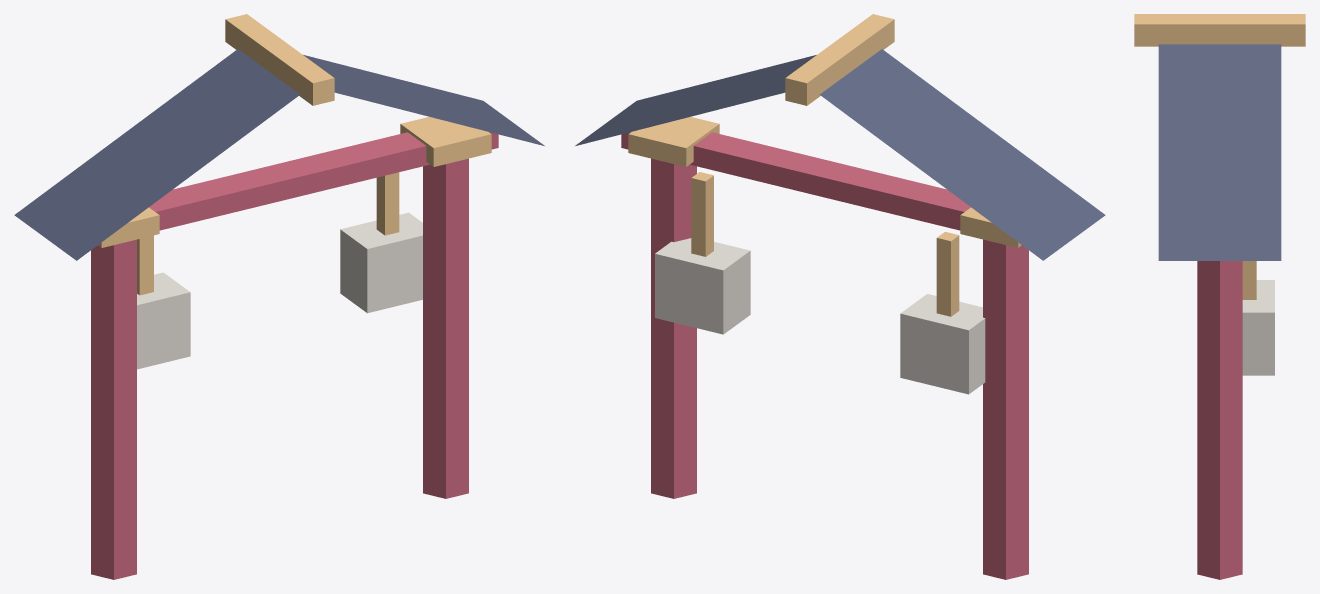
The model's file is moonfall_lantern_arch_lod1.gltf.
3 views of the same model, side by side, from view 1: azimuth 30°, elevation 25°; view 2: azimuth 150°, elevation 25°; view 3: azimuth 270°, elevation 25° (orthographic).
Visible parts, largest first — view 1: moonfall_lantern_arch_lod1; view 2: moonfall_lantern_arch_lod1; view 3: moonfall_lantern_arch_lod1.
Boxes of the visible parts, x1,y1,x2,y2 form: moonfall_lantern_arch_lod1: [14, 14, 544, 579]; moonfall_lantern_arch_lod1: [575, 14, 1105, 579]; moonfall_lantern_arch_lod1: [1134, 14, 1305, 579].
Size of the model in its own units: 6.5 by 6.35 by 2.1.
